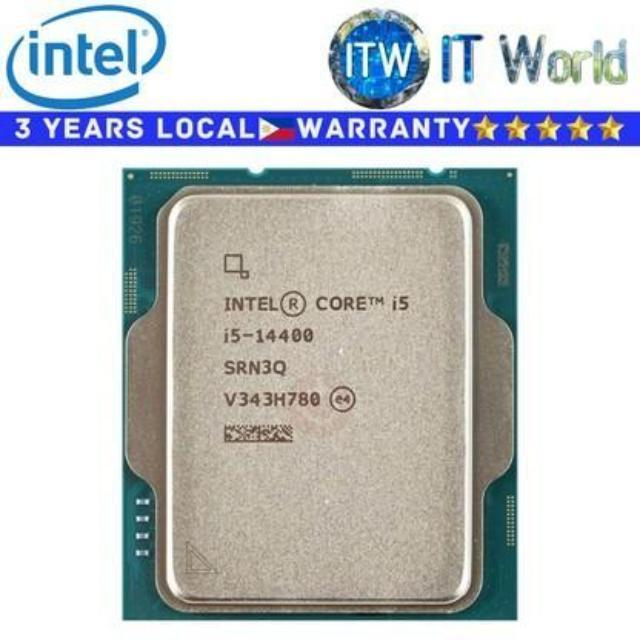CPU: (120, 164, 515, 626)
